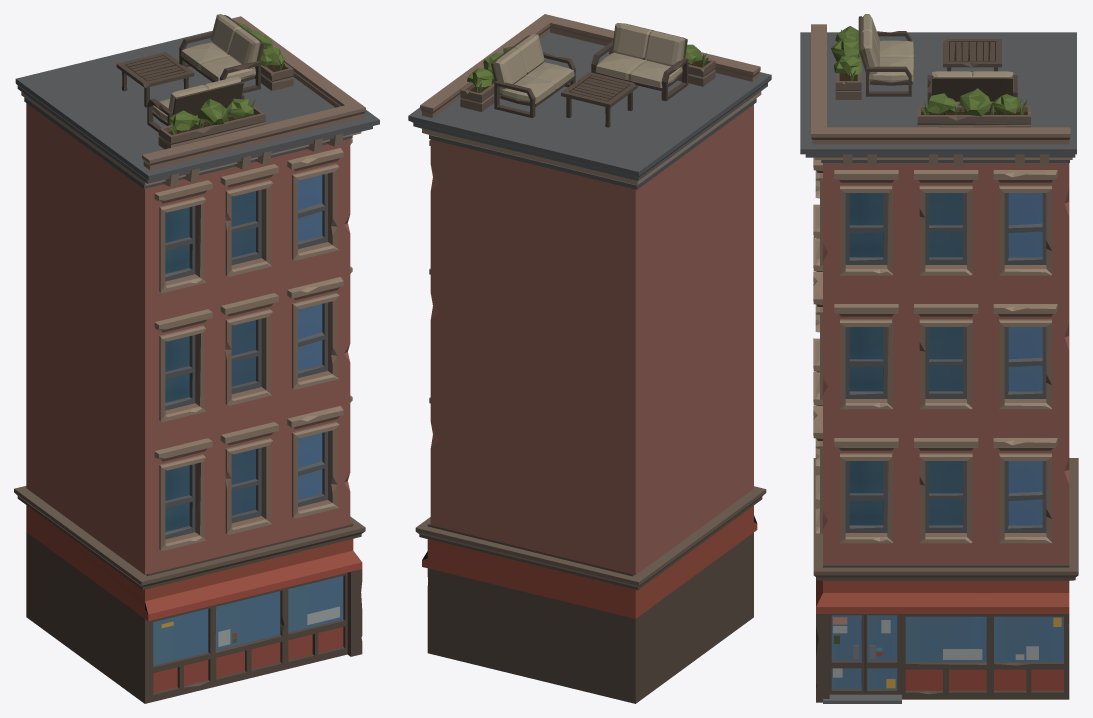
The model's file is v3-buildings-SM3D_Bld_Mixed_Corner_4fl.glb.
3 views of the same model, side by side, from view 1: azimuth 30°, elevation 25°; view 2: azimuth 150°, elevation 25°; view 3: azimuth 270°, elevation 25° (orthographic). The views are drawn at different scales.
Visible parts, largest first — view 1: SM3D_Bld_Mixed_Corner_4fl; view 2: SM3D_Bld_Mixed_Corner_4fl; view 3: SM3D_Bld_Mixed_Corner_4fl.
Boxes of the visible parts, x1,y1,x2,y2 form: SM3D_Bld_Mixed_Corner_4fl: (14,14,379,703); SM3D_Bld_Mixed_Corner_4fl: (408,14,771,703); SM3D_Bld_Mixed_Corner_4fl: (800,14,1078,703).
Bounding box in the file's own units: 5.64 × 13.56 × 5.64.
Materials: 1 (1 with a texture image).
